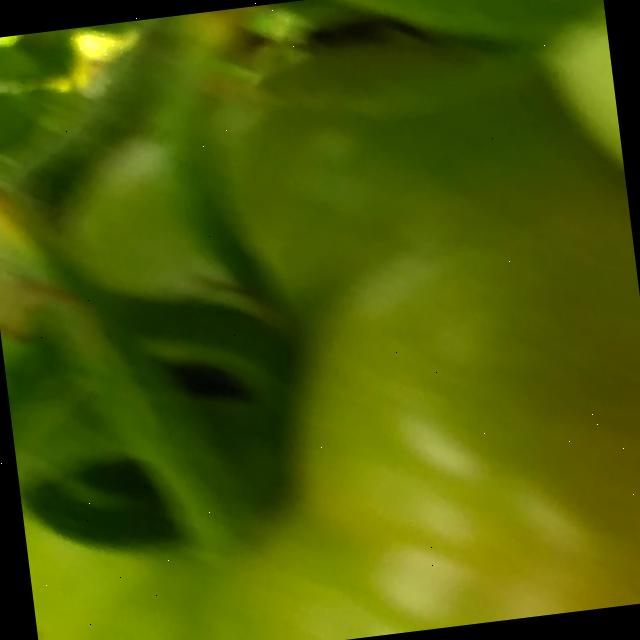tomato: (0, 0, 640, 640), (0, 0, 634, 329)
